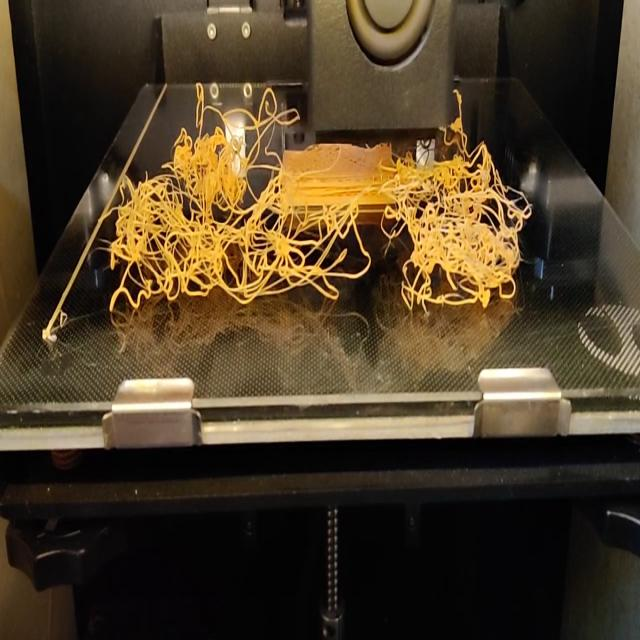spaghetti: (92, 130, 538, 316), (168, 79, 298, 131), (455, 85, 465, 130)
